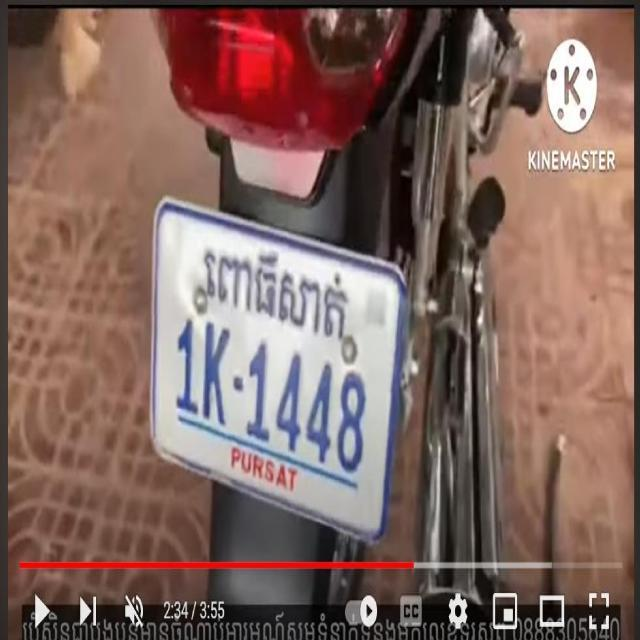Pursat: (204, 245, 346, 341)
